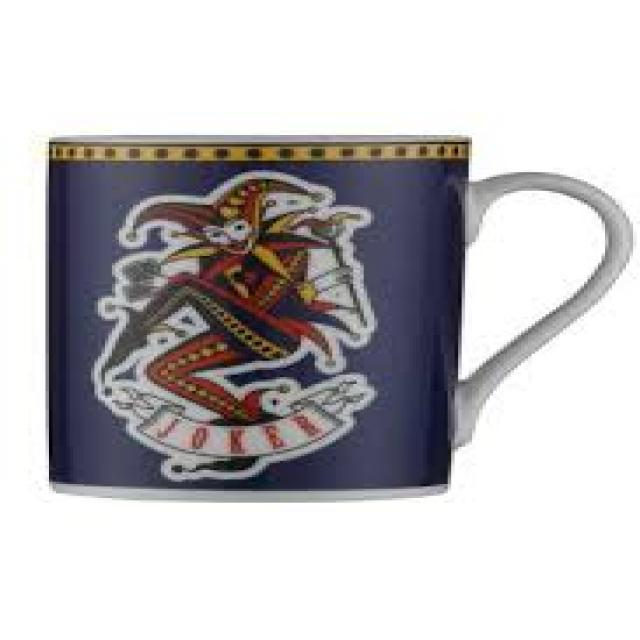taza: (44, 133, 636, 503)
